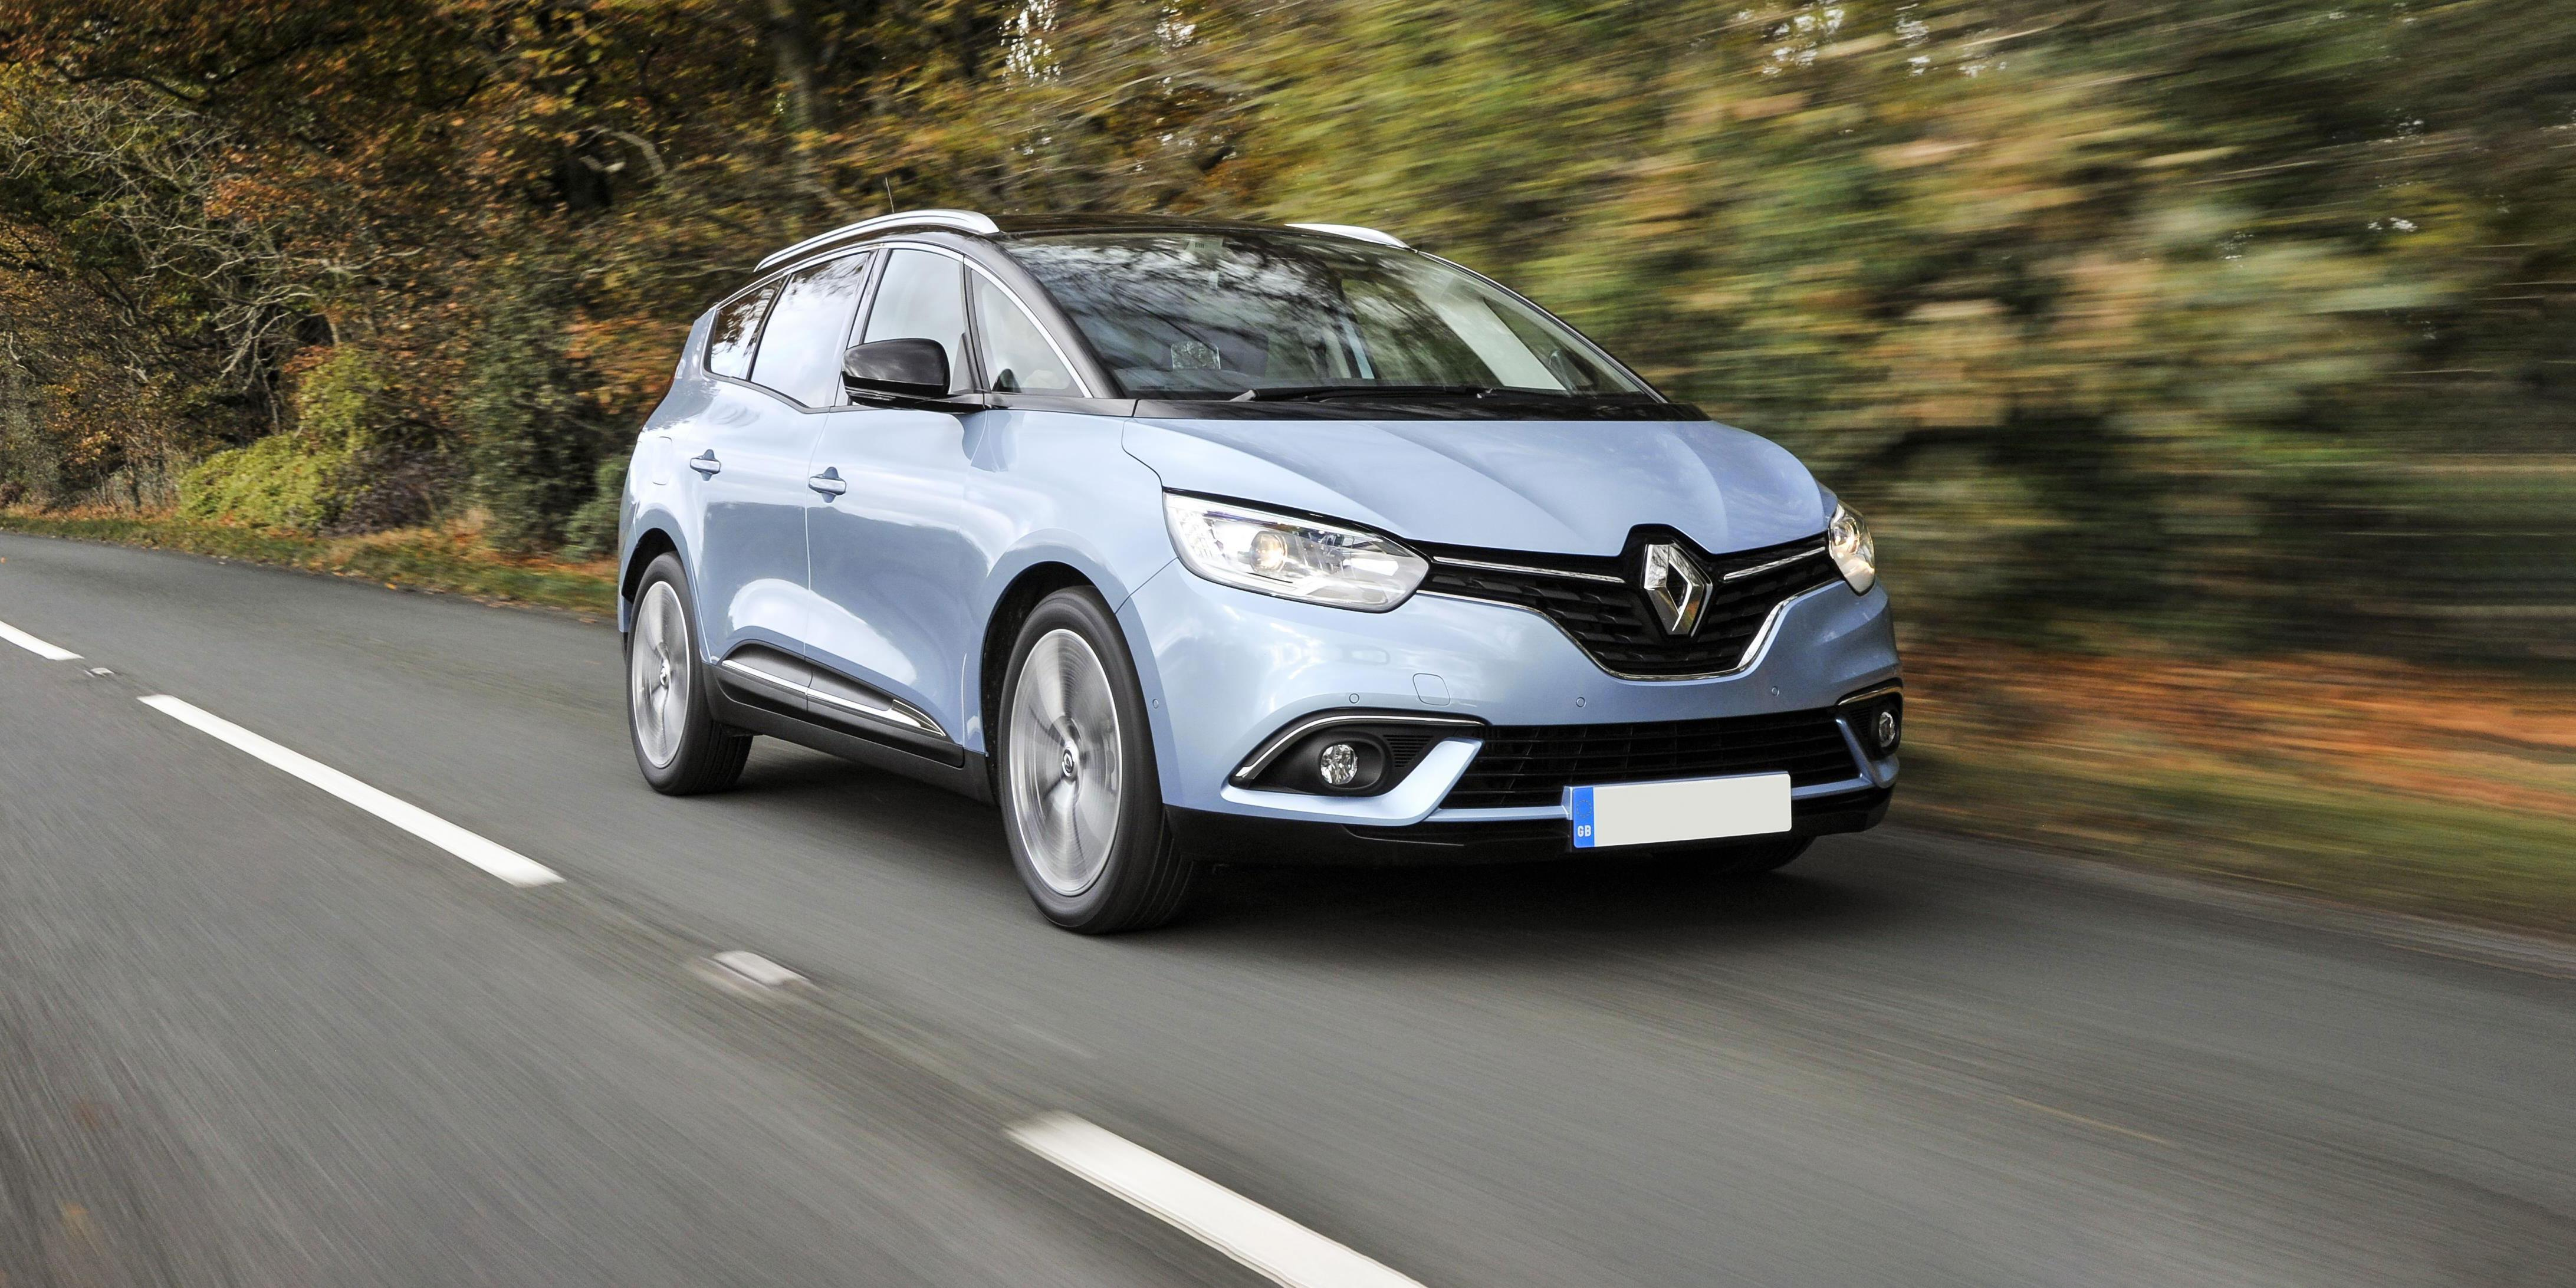Renault: (1620, 508, 1717, 660)
